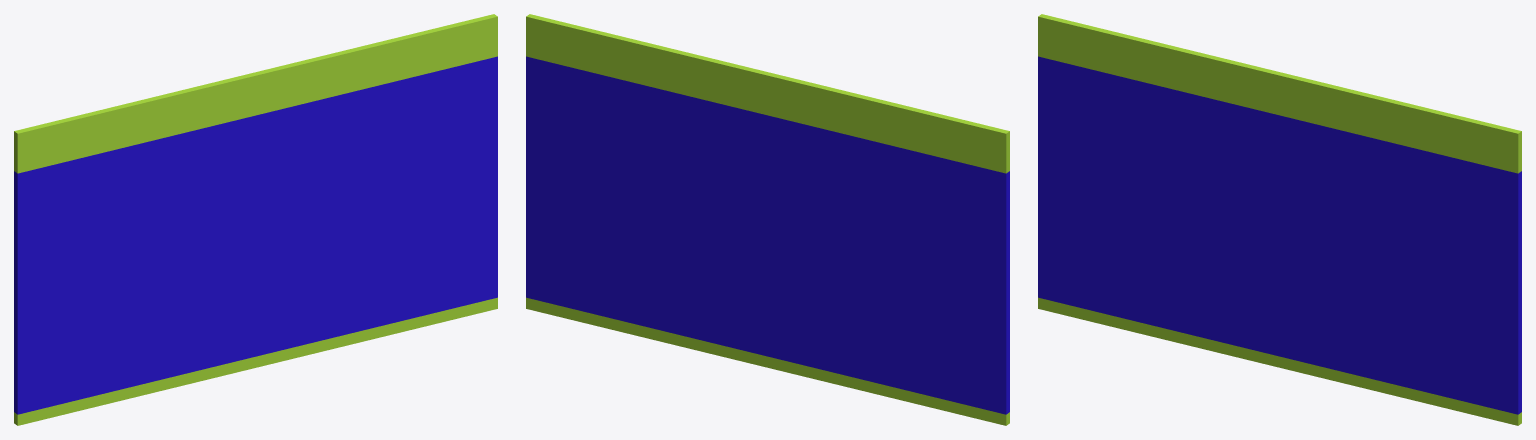
Rendered from panelBluePrintfbx.fbx.
3 views of the same model, side by side, from view 1: azimuth 30°, elevation 25°; view 2: azimuth 150°, elevation 25°; view 3: azimuth 330°, elevation 25° (orthographic).
Visible parts, largest first — view 1: Cube; view 2: Cube; view 3: Cube.
Boxes of the visible parts, x1,y1,x2,y2 form: Cube: (14,14,497,425); Cube: (526,14,1009,425); Cube: (1038,14,1521,425).
Bounding box in the file's own units: 647 × 376 × 8.45.
